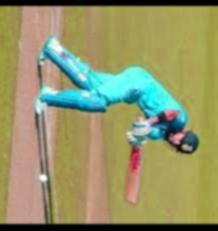batsman: (19, 31, 203, 162)
